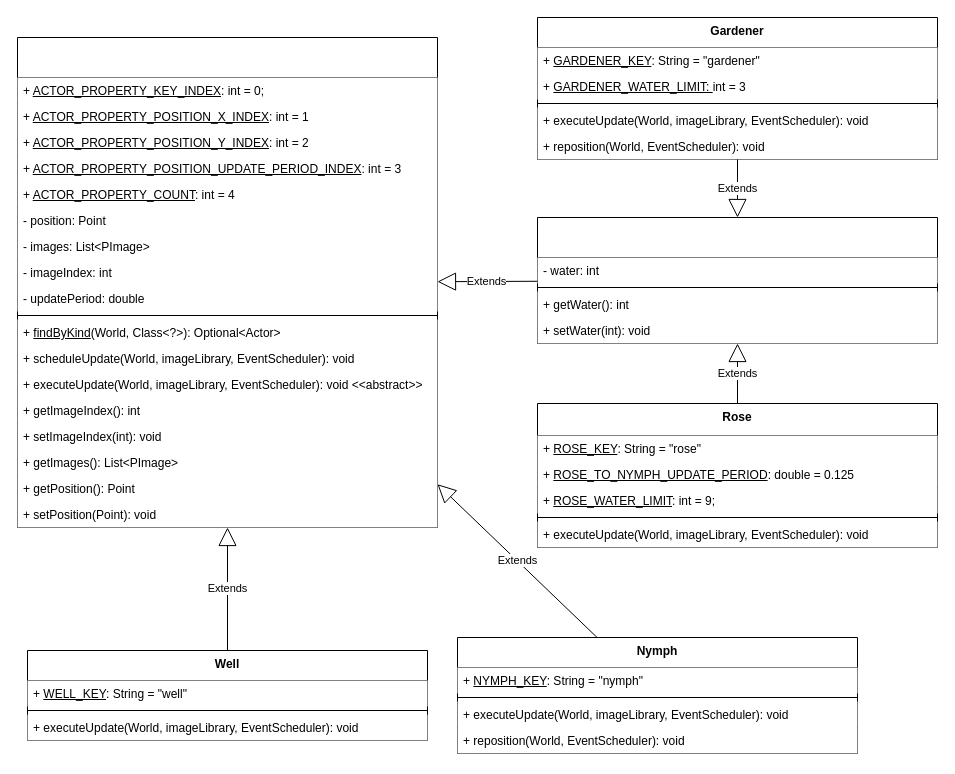
This 955x774 diagram has some shape labels left out. The box of each missing label's shape, as (x1, y1, x2, y2) in pixels:
Actor <<abstract>>: (16, 36, 438, 528)
WaterActor <<abstract>>: (536, 216, 938, 344)
